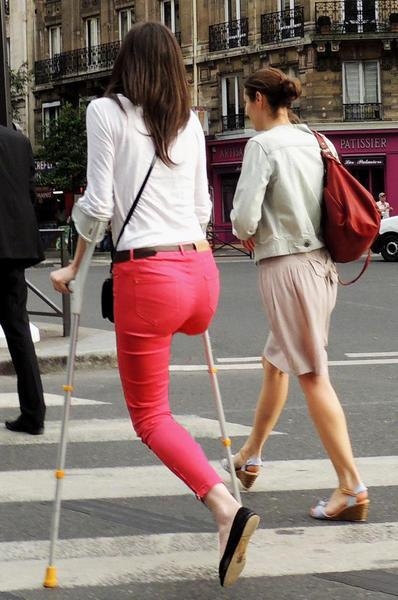crutches: (35, 10, 249, 597)
